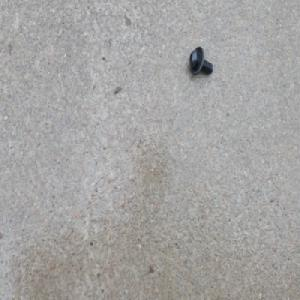BoltWasher: (187, 44, 212, 76)
